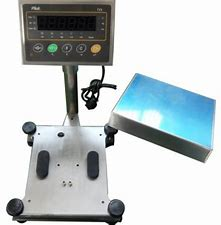Scissor Lift: (5, 1, 126, 225)
